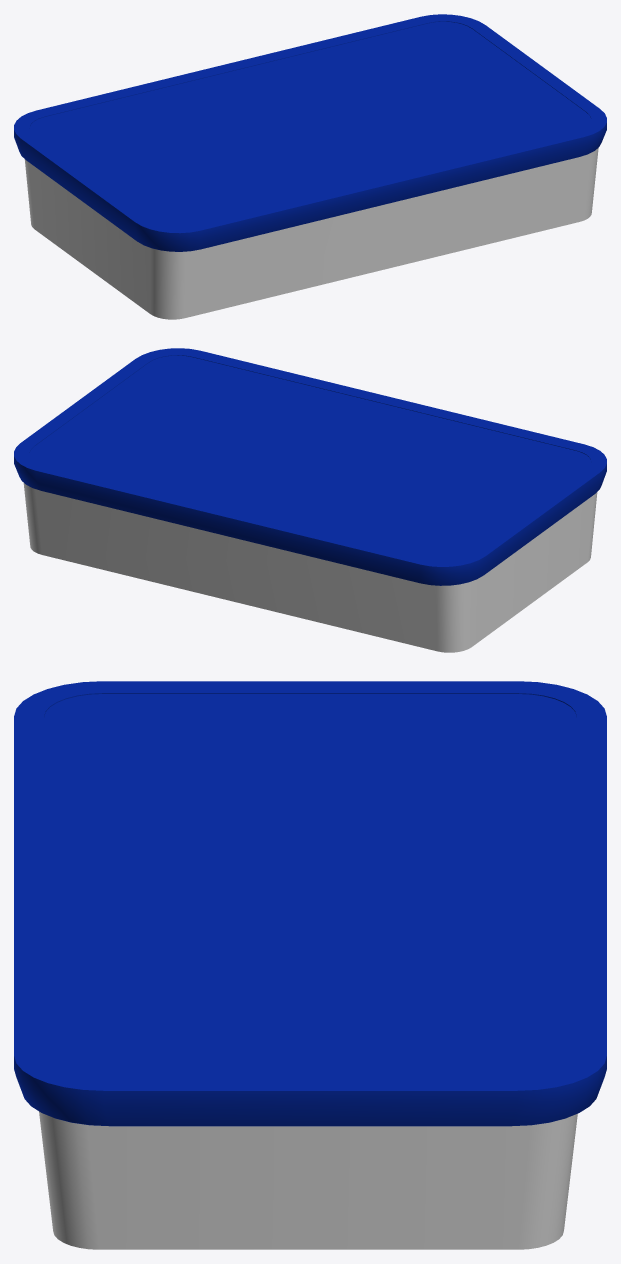
The model's file is Tupperware 2.fbx.
The picture shows the model from 3 angles, top to bottom: view 1: azimuth 30°, elevation 25°; view 2: azimuth 150°, elevation 25°; view 3: azimuth 270°, elevation 25°; orthographic projection. The views are drawn at different scales.
Visible parts, largest first — view 1: tupperware 2; view 2: tupperware 2; view 3: tupperware 2.
Boxes of the visible parts, <box> form: tupperware 2: <box>14,14,606,319</box>; tupperware 2: <box>14,348,606,652</box>; tupperware 2: <box>14,681,606,1249</box>.
Size of the model in its own units: 12.08 by 2.34 by 7.39.
